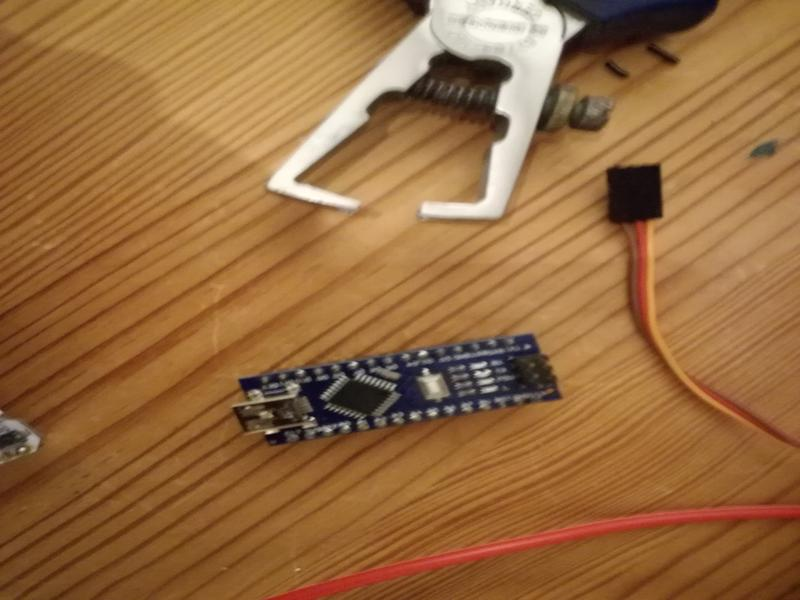Arduino_Nano: (228, 328, 567, 464)
